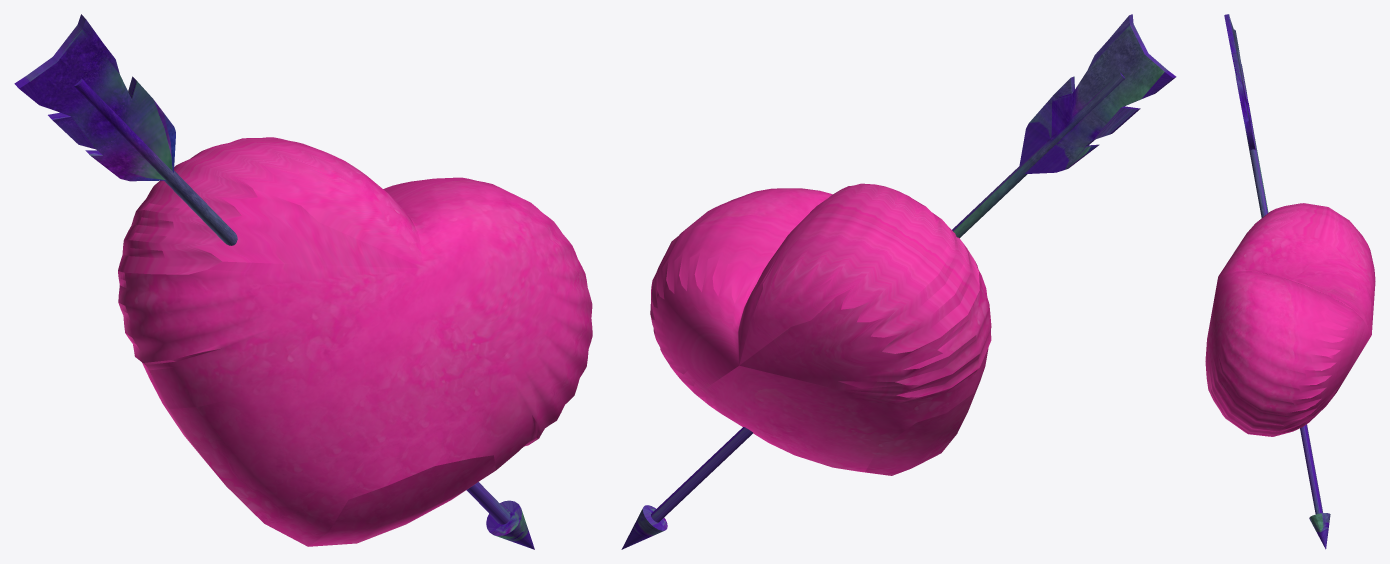
File: heart.gltf
3 views of the same model, side by side, from view 1: azimuth 30°, elevation 25°; view 2: azimuth 150°, elevation 25°; view 3: azimuth 270°, elevation 25° (orthographic). The views are drawn at different scales.
Parts seen in each view (by area): view 1: Heart_obj, arrow_obj; view 2: Heart_obj, arrow_obj; view 3: Heart_obj, arrow_obj.
Part boxes in pixels (x1,y1,x2,y2): Heart_obj: (118, 137, 592, 546); arrow_obj: (14, 14, 534, 549); Heart_obj: (650, 183, 991, 475); arrow_obj: (621, 14, 1176, 549); Heart_obj: (1205, 203, 1375, 436); arrow_obj: (1224, 14, 1330, 549).
Size of the model in its own units: 15.74 by 18.27 by 7.15.
Materials: 4 (4 with a texture image).
